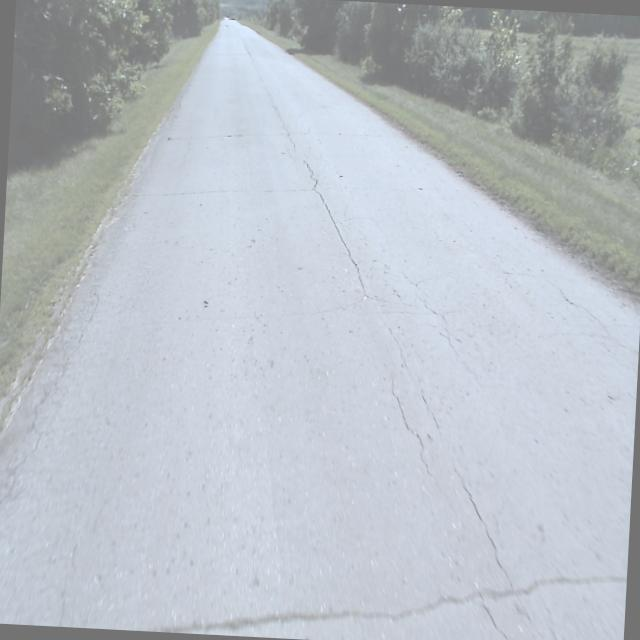road: (0, 20, 640, 640)
